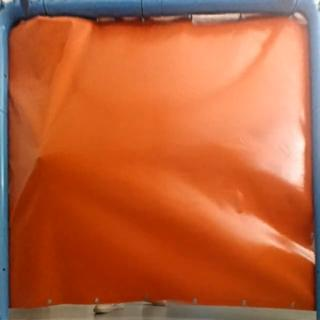Hit-hRxx: (35, 151, 47, 164)
